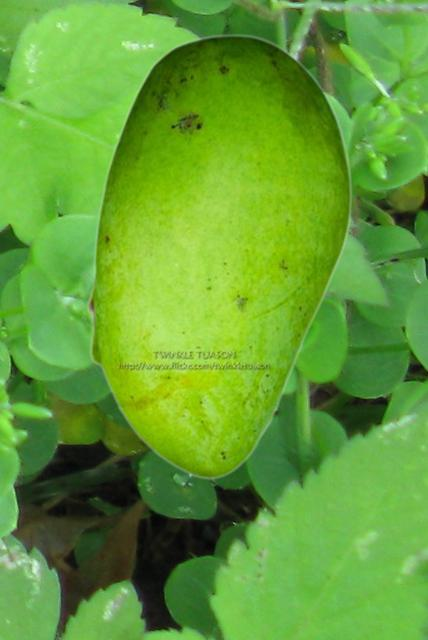green_mango: (86, 33, 352, 479)
